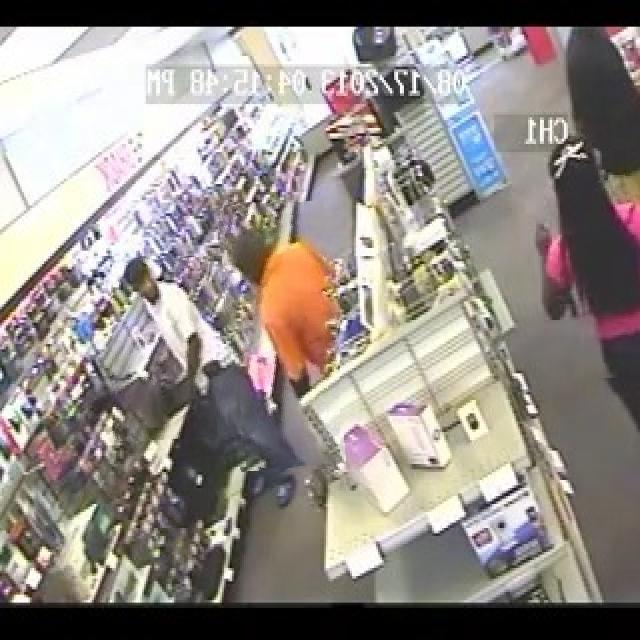Normal: (223, 202, 340, 470), (578, 71, 640, 379), (112, 257, 215, 440)
